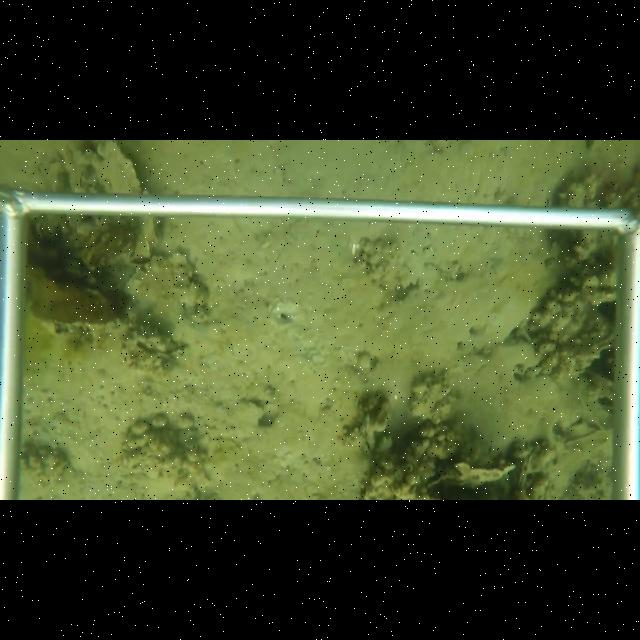Oyster-Closed: (92, 141, 150, 195), (515, 446, 534, 495)
